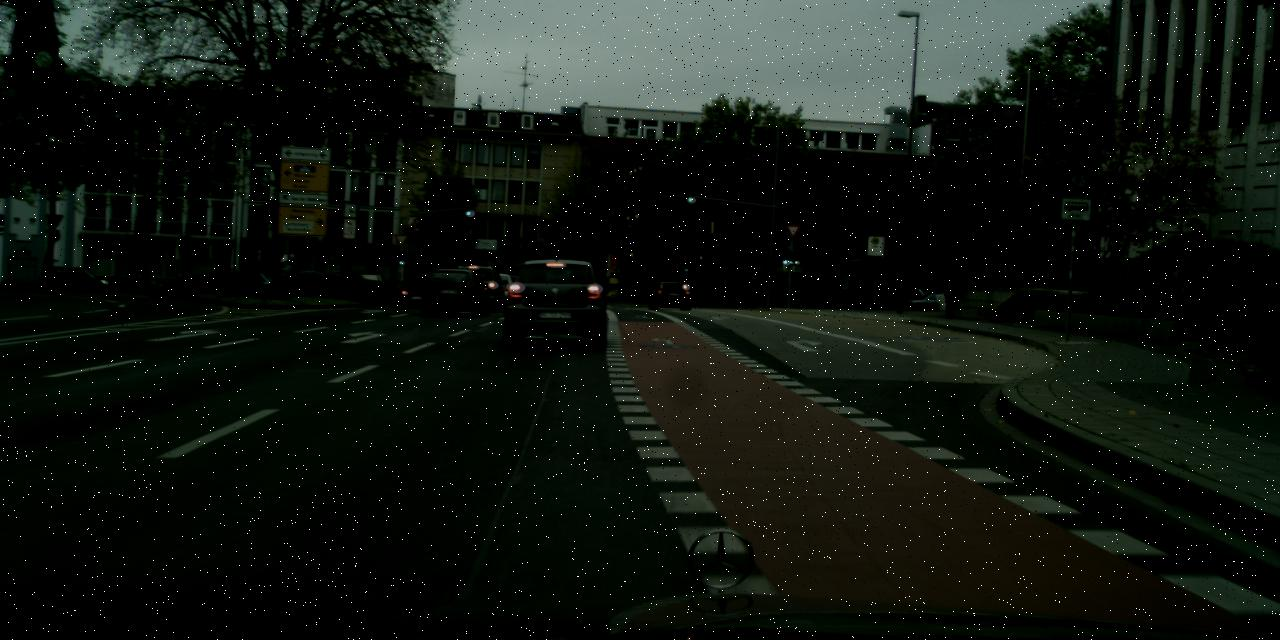ped: (940, 267, 961, 317), (731, 277, 740, 300), (916, 286, 924, 305)
